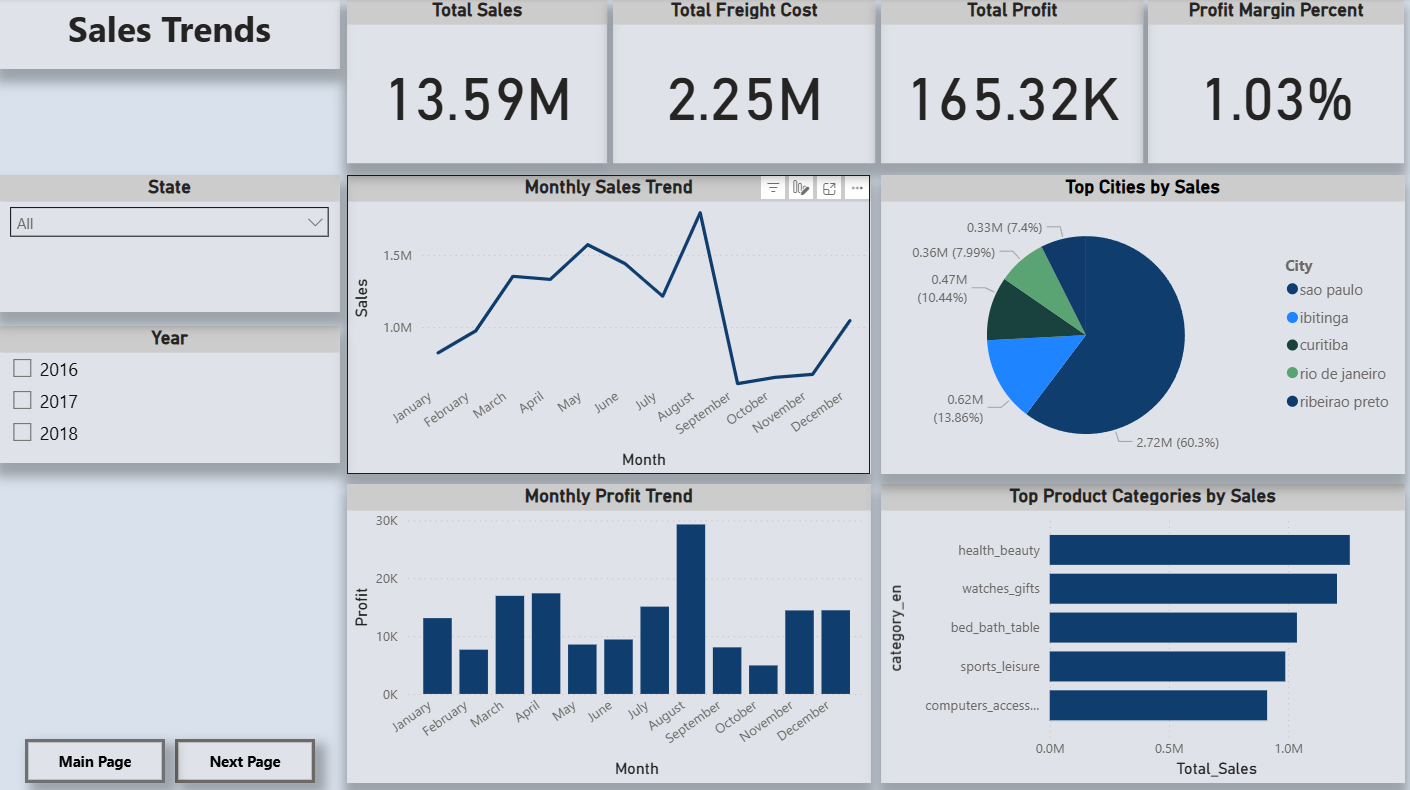

What the dashboard file says about the page in this screenshot:
{"tool":"powerbi","page":{"name":"Sales Trends","canvas":[1280,720],"ordinal":1},"visuals":[{"type":"lineChart","title":"Monthly Sales Trend","fields":{"Category":["DateTable.Month"],"Y":["olist_order_items_dataset.Monthly_Sales"]},"box":[315.1,160.5,474.7,271.4],"z":0},{"type":"slicer","title":"Year","fields":{"Values":["DateTable.Year"]},"box":[0,297.6,309.3,124.5],"z":1000},{"type":"textbox","box":[0,0,309.3,64.2],"z":2000},{"type":"slicer","title":"State","fields":{"Values":["olist_geolocation_dataset.State"]},"box":[0,160.5,309.3,124.5],"z":3000},{"type":"card","title":"Total Sales","fields":{"Values":["olist_order_items_dataset.Total_Sales"]},"box":[315.1,0,236.4,149.8],"z":4000},{"type":"card","title":"Total Freight Cost","fields":{"Values":["olist_order_items_dataset.Total_Freight_Cost"]},"box":[556.4,0,238.3,149.8],"z":5000},{"type":"card","title":"Total Profit","fields":{"Values":["olist_order_items_dataset.Profit"]},"box":[799.5,0,238.3,149.8],"z":6000},{"type":"card","title":"Profit Margin Percent","fields":{"Values":["olist_order_items_dataset.Profit_Margin_Percent"]},"box":[1041.7,0,232.5,149.8],"z":7000},{"type":"columnChart","title":"Monthly Profit Trend","fields":{"Category":["DateTable.Month"],"Y":["olist_order_items_dataset.Profit"]},"box":[315.1,440.6,474.7,271.4],"z":8000},{"type":"clusteredBarChart","title":"Top Product Categories by Sales","fields":{"Category":["product_category_name_translation.category_en"],"Y":["olist_order_items_dataset.Total_Sales"]},"box":[799.5,440.6,474.7,271.4],"z":9000},{"type":"pieChart","title":"Top Cities by Sales","fields":{"Category":["olist_sellers_dataset.seller_city"],"Y":["olist_order_items_dataset.Total_Sales"]},"box":[799.5,160.5,474.7,271.4],"z":10000},{"type":"actionButton","box":[159.6,671.9,127,39.9],"z":11000},{"type":"actionButton","box":[23.6,671.9,127,39.9],"z":12000}]}

Visuals, with their boxes in screenshot pixels (x1, y1, x2, y2), scaled from the page's 1280x720 canvas onto the 1410x790 screenshot:
"Monthly Sales Trend" lineChart: 347,176,870,474
"Year" slicer: 0,327,341,463
textbox: 0,0,341,70
"State" slicer: 0,176,341,313
"Total Sales" card: 347,0,608,164
"Total Freight Cost" card: 613,0,875,164
"Total Profit" card: 881,0,1143,164
"Profit Margin Percent" card: 1147,0,1404,164
"Monthly Profit Trend" columnChart: 347,483,870,781
"Top Product Categories by Sales" clusteredBarChart: 881,483,1404,781
"Top Cities by Sales" pieChart: 881,176,1404,474
actionButton: 176,737,316,781
actionButton: 26,737,166,781
